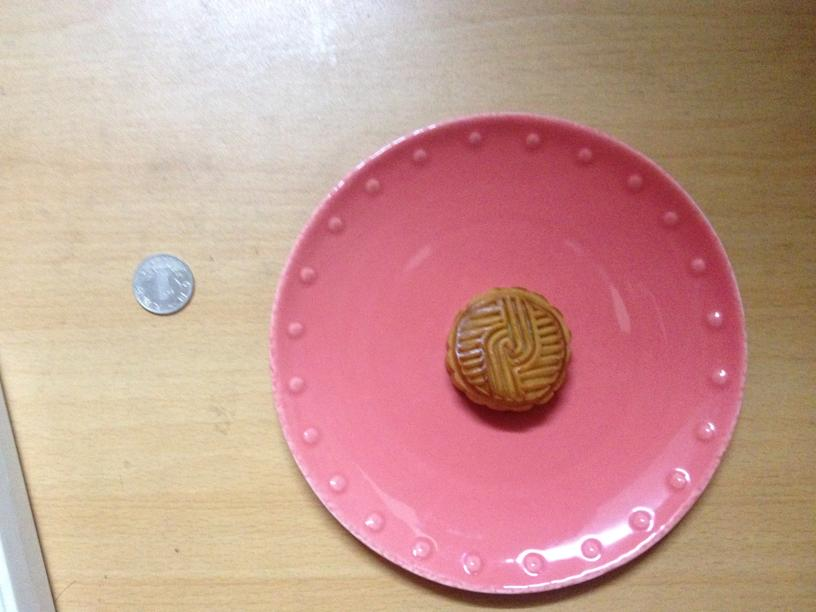coin: (131, 252, 194, 316)
mooncake: (447, 283, 574, 408)
